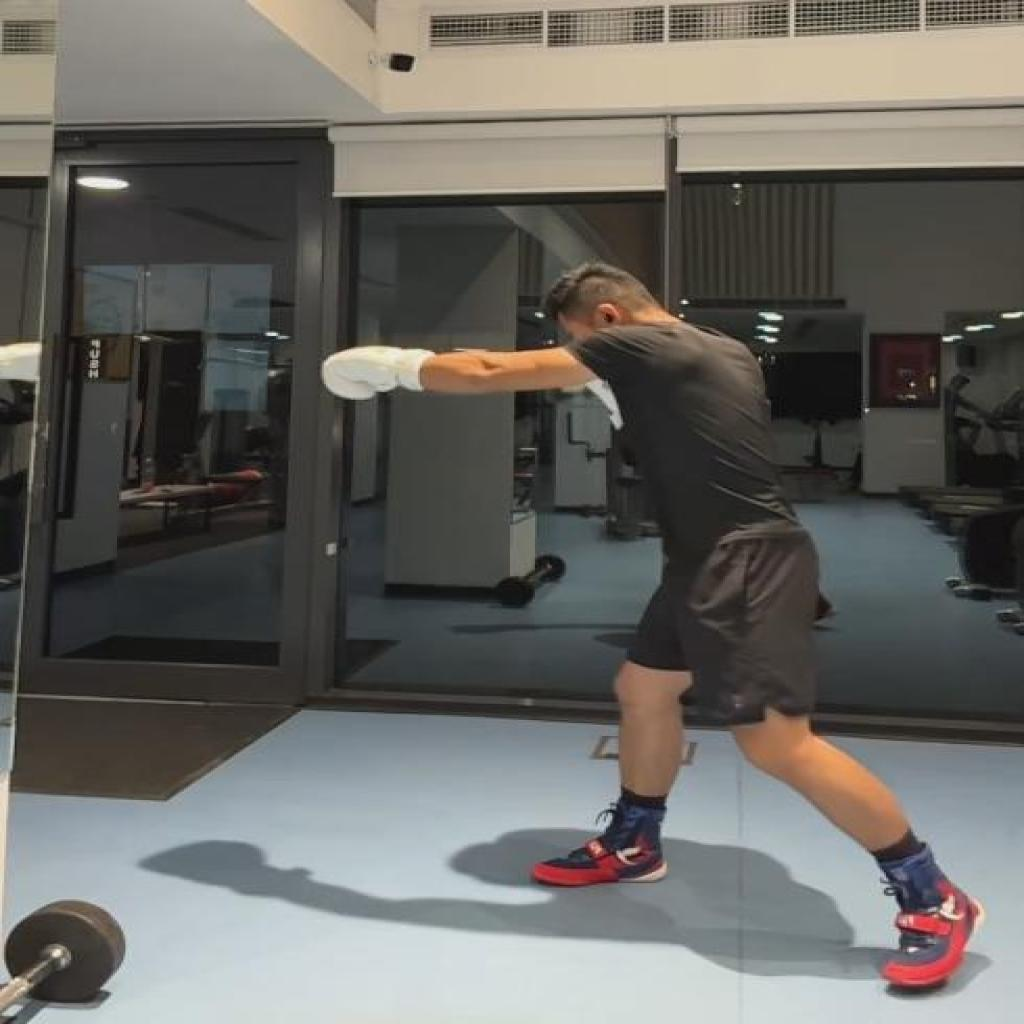cross: (320, 259, 980, 997)
